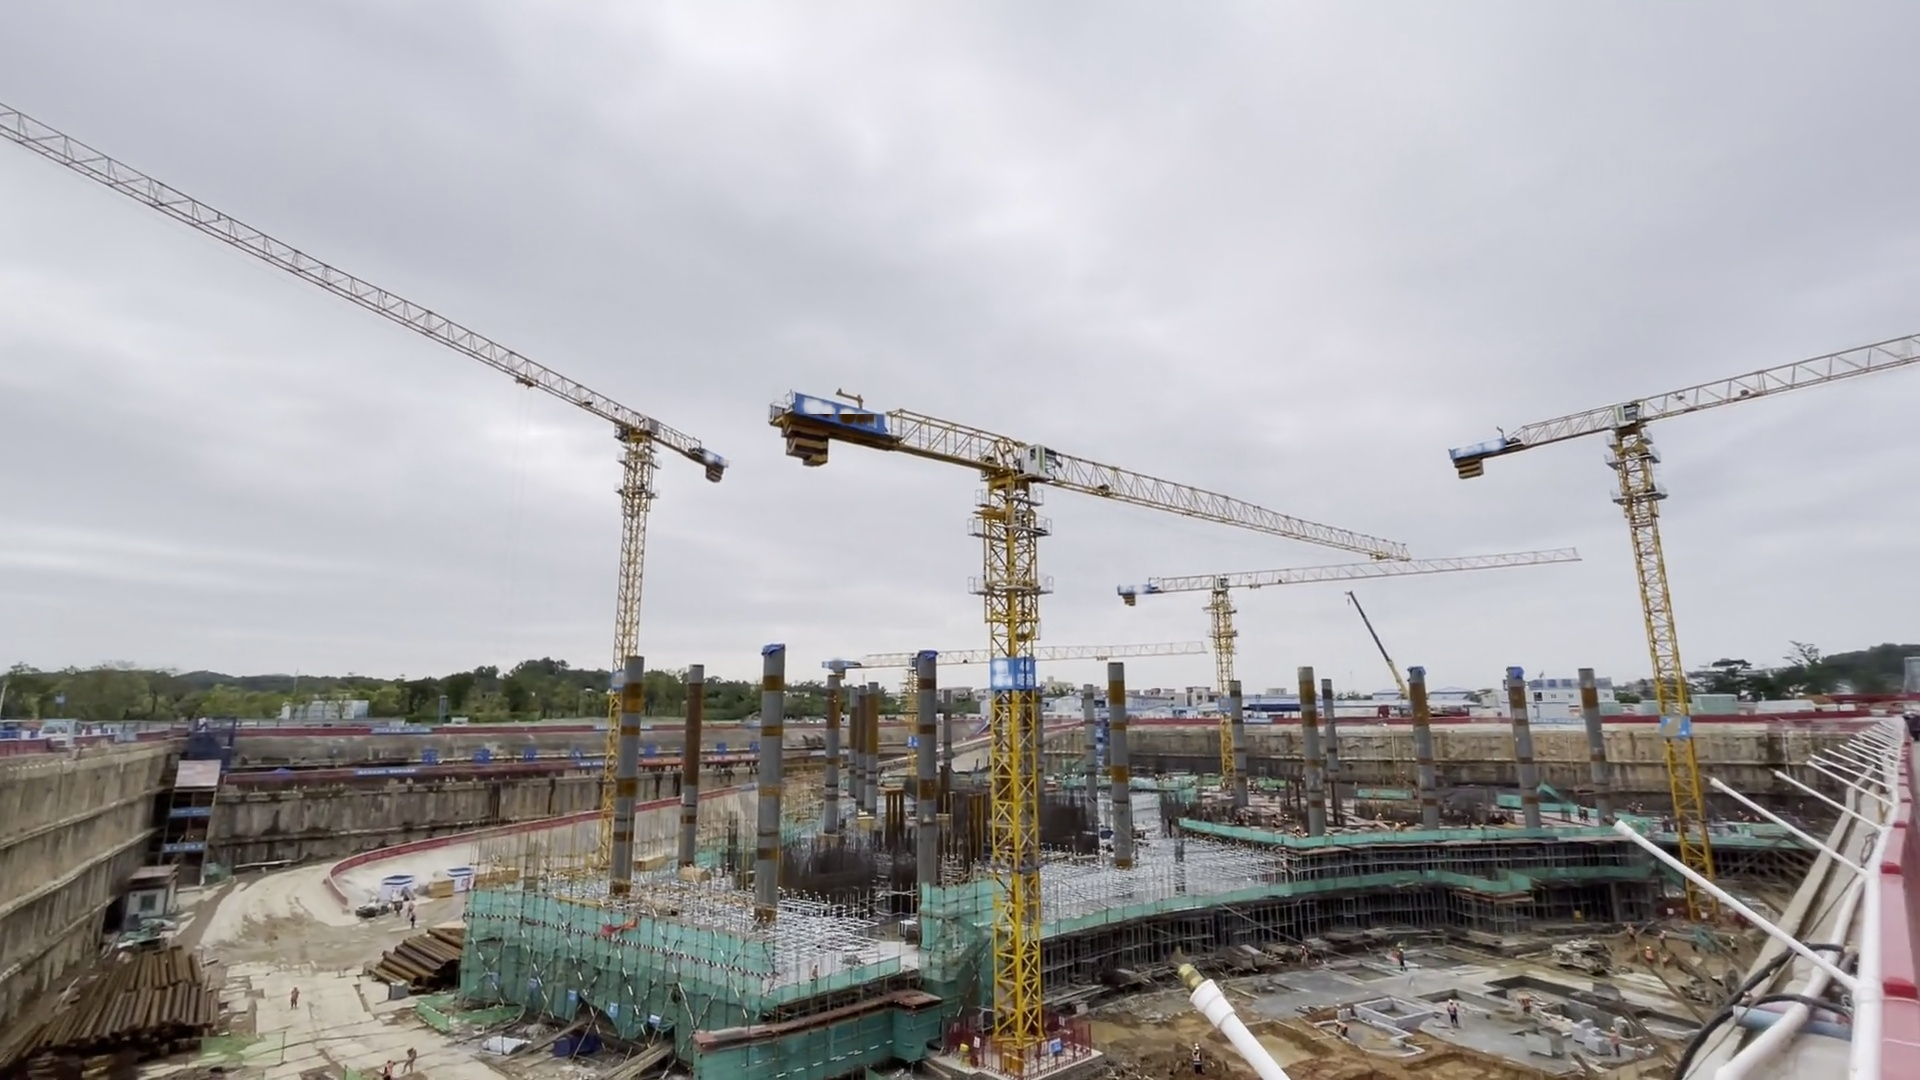helmet: (1608, 1024, 1617, 1032), (1646, 943, 1651, 949), (1731, 934, 1737, 940), (1194, 1043, 1199, 1049), (1399, 946, 1405, 951), (1449, 998, 1454, 1003), (1334, 1018, 1339, 1024), (1302, 944, 1305, 948)
person: (1606, 1021, 1624, 1061), (1444, 997, 1462, 1030), (1188, 1040, 1207, 1073), (403, 1040, 421, 1074), (1396, 944, 1411, 972), (1332, 1018, 1351, 1038), (288, 984, 303, 1008), (383, 1058, 396, 1080), (1299, 943, 1310, 969), (1728, 933, 1740, 953), (1644, 944, 1654, 968), (1659, 929, 1669, 948)
vest: (1609, 1033, 1621, 1045), (386, 1064, 394, 1078), (1193, 1051, 1203, 1061), (1340, 1019, 1348, 1031), (1448, 1006, 1455, 1019), (1646, 950, 1653, 960), (408, 1051, 416, 1062)
